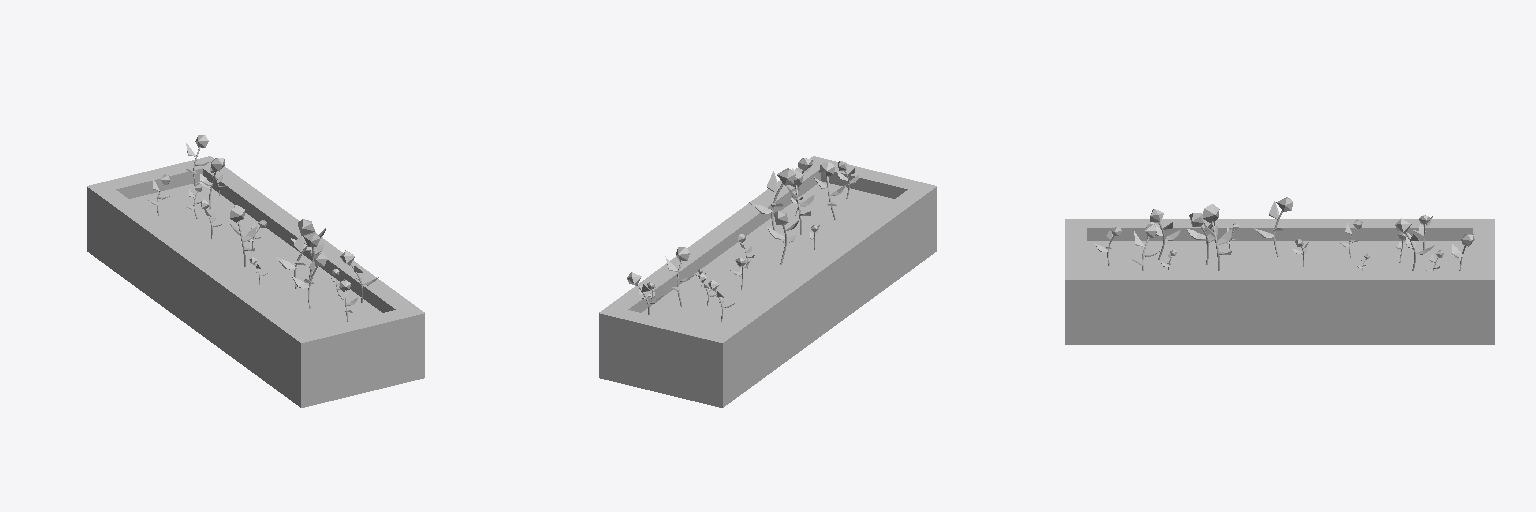
The model's file is FlowerBox2.obj.
The picture shows the model from 3 angles: view 1: azimuth 30°, elevation 25°; view 2: azimuth 150°, elevation 25°; view 3: azimuth 270°, elevation 25°; orthographic projection.
Visible parts, largest first — view 1: Cube.004_Cube.005, Cube.000_Cube.010; view 2: Cube.004_Cube.005, Cube.000_Cube.010, Icosphere.005_Icosphere; view 3: Cube.004_Cube.005, Cube.000_Cube.010, Icosphere.005_Icosphere.
Part boxes in pixels (x1,y1,x2,y2): Cube.004_Cube.005: (87, 156, 424, 407); Cube.000_Cube.010: (130, 182, 381, 330); Cube.004_Cube.005: (599, 156, 936, 407); Cube.000_Cube.010: (642, 181, 893, 330); Icosphere.005_Icosphere: (749, 168, 795, 230); Cube.004_Cube.005: (1065, 219, 1494, 344); Cube.000_Cube.010: (1087, 241, 1472, 270); Icosphere.005_Icosphere: (1203, 204, 1231, 270).
Size of the model in its own units: 1 by 0.9022 by 3.